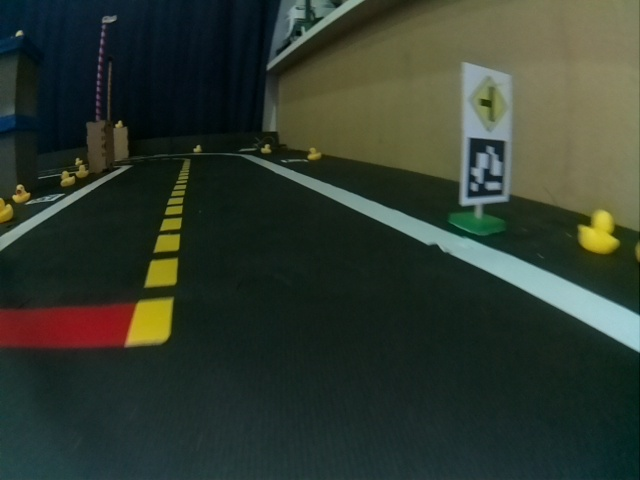Duckie: (578, 210, 619, 252), (14, 185, 30, 203), (64, 172, 74, 186), (261, 145, 270, 153), (193, 145, 201, 153), (310, 149, 317, 157), (78, 166, 85, 173)
Intersection sign: (468, 74, 509, 130)
QR code: (465, 136, 507, 199), (29, 194, 62, 203), (282, 157, 309, 164)
